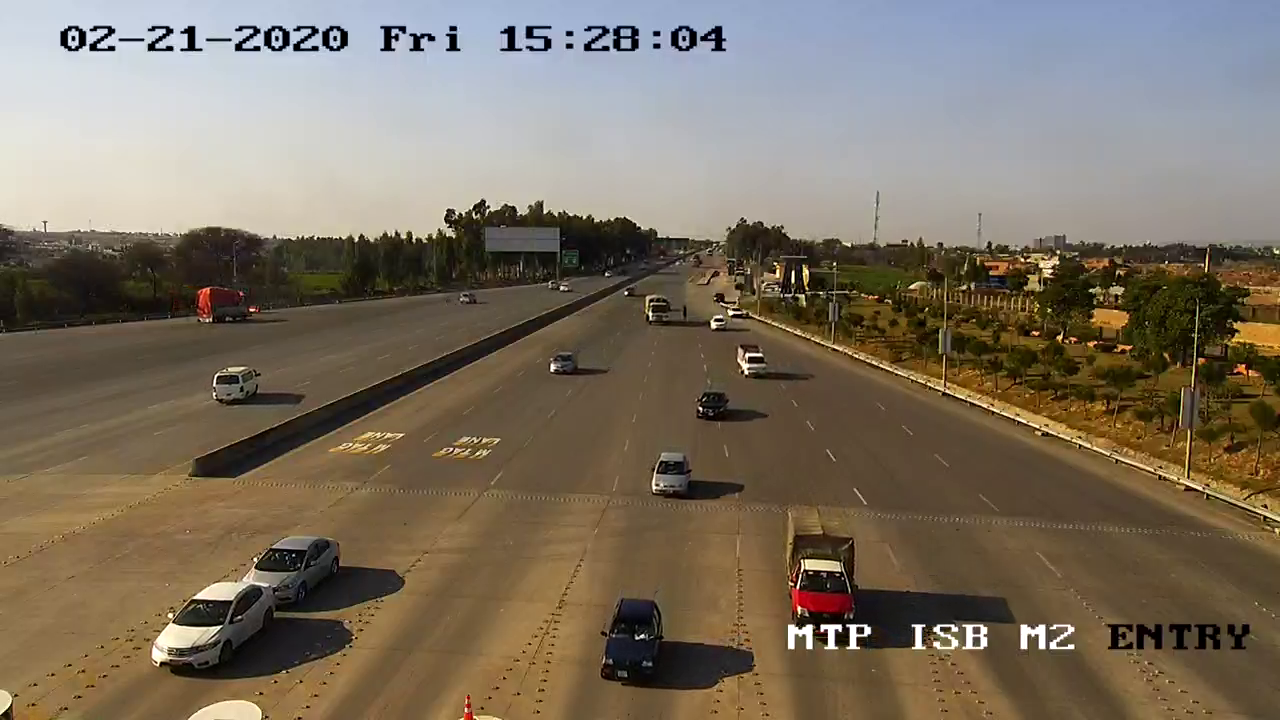f1: (143, 572, 280, 680), (582, 588, 675, 693), (645, 443, 702, 509)
f2: (772, 498, 866, 632)
